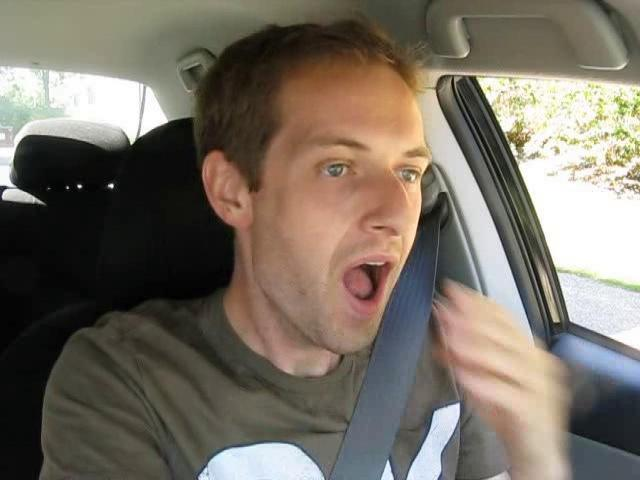eye_open: (310, 153, 360, 188), (393, 162, 424, 185)
face: (276, 120, 427, 355)
mouth_open: (336, 249, 400, 319)
